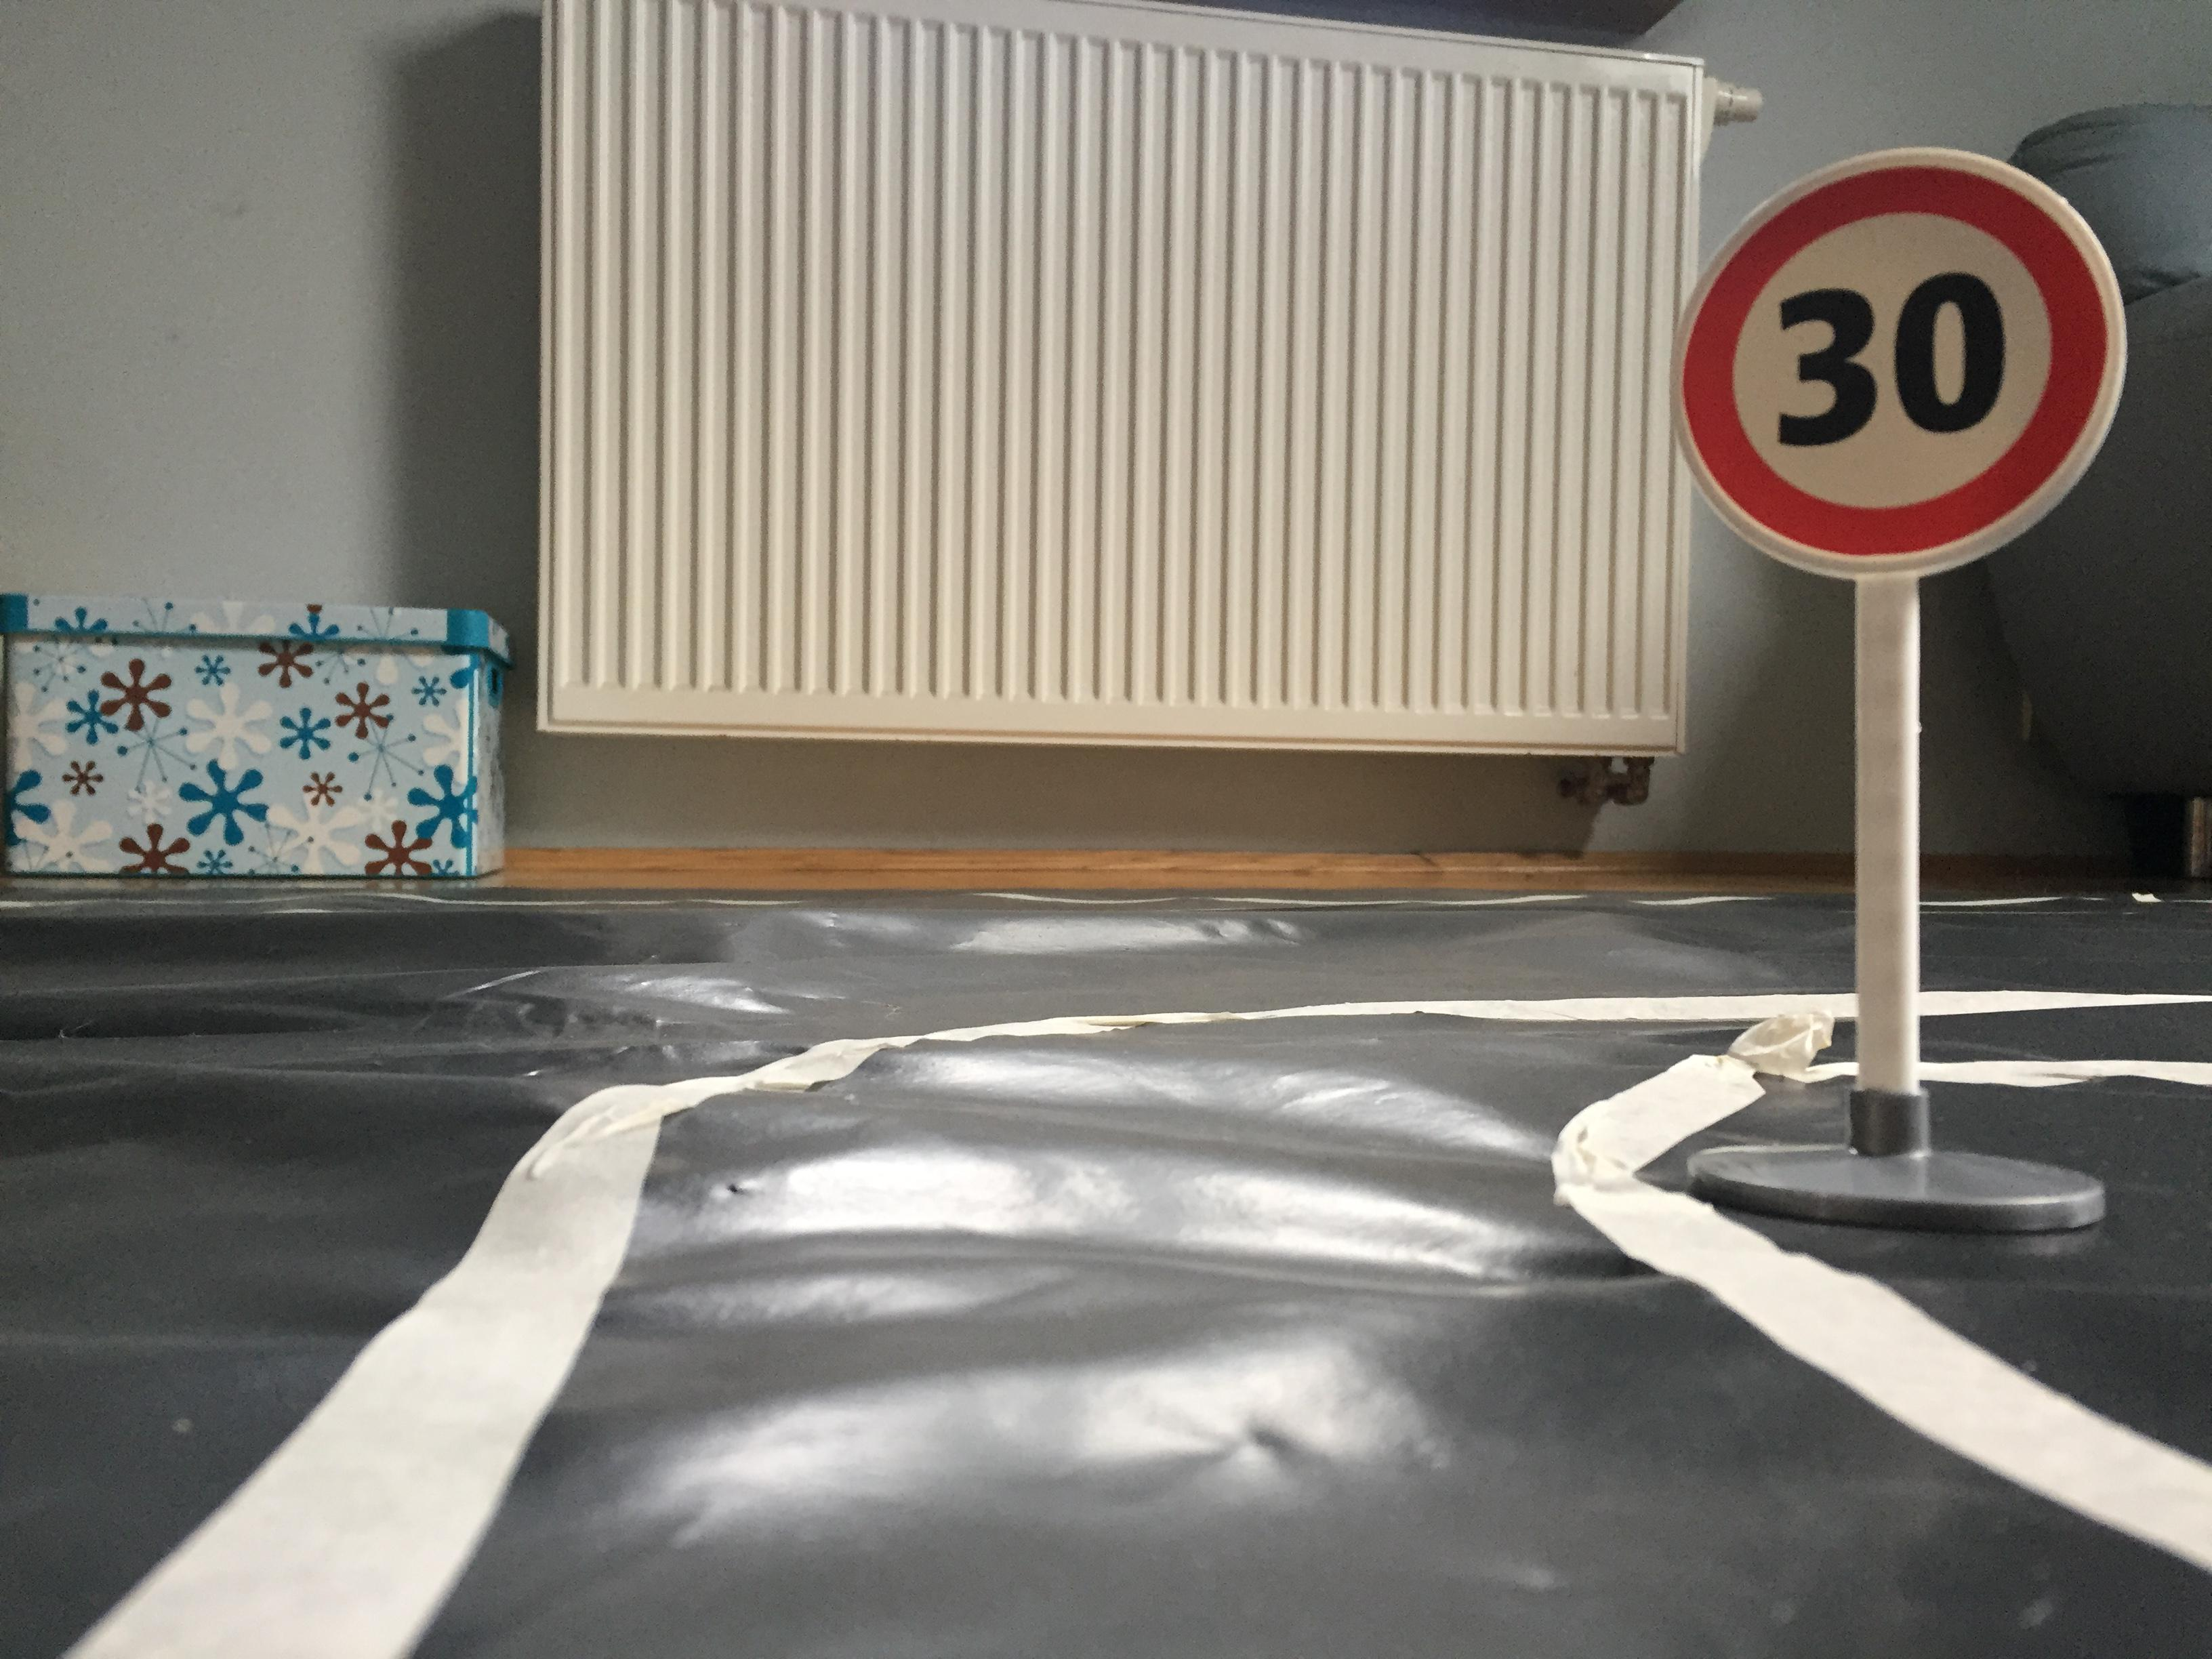speed: (1665, 138, 2155, 587)
